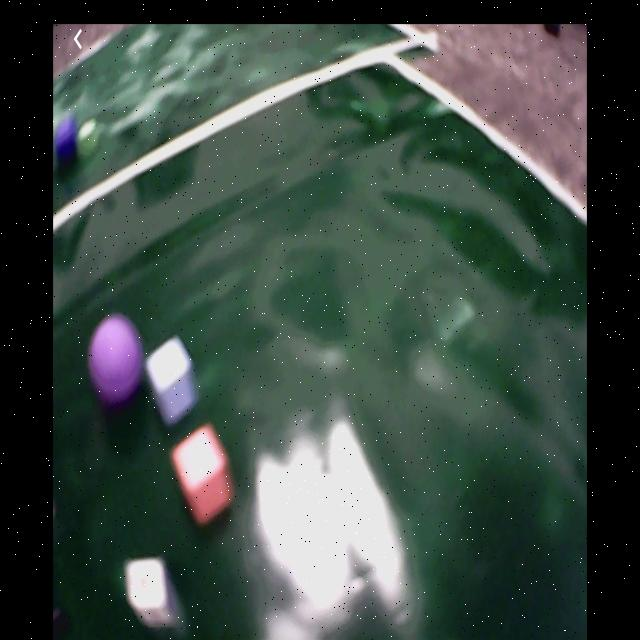ball: (90, 319, 140, 398), (59, 118, 80, 160)
